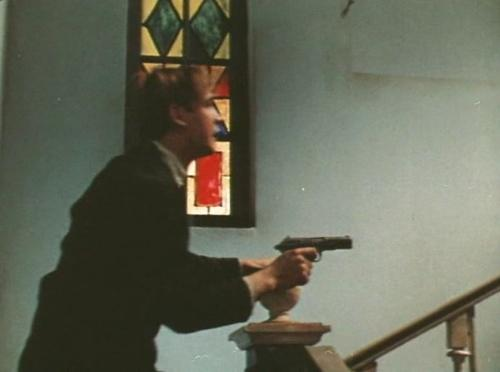Gun: (273, 236, 357, 264)
